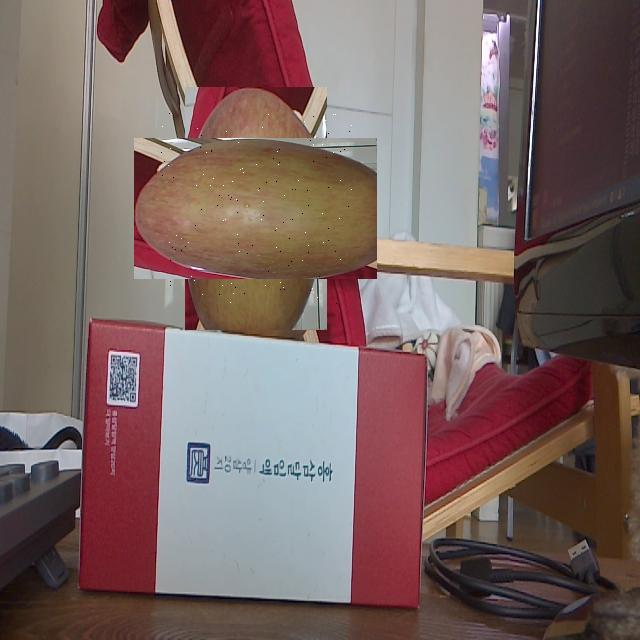apple: (160, 112, 352, 305)
